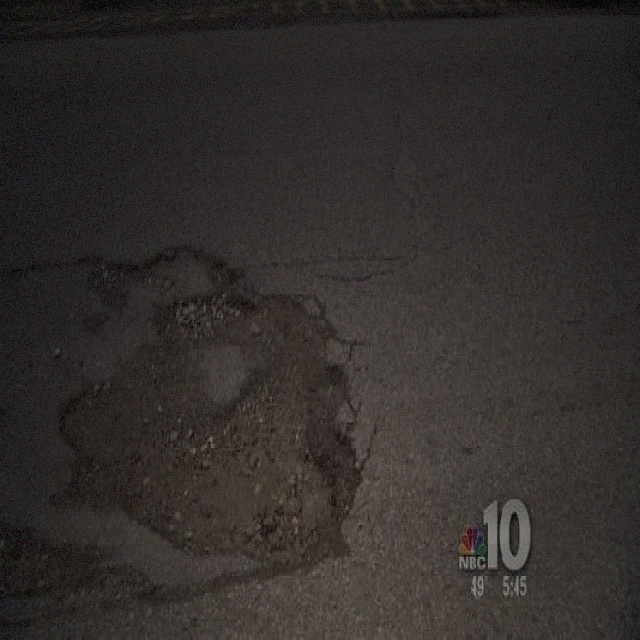pothole: (49, 245, 358, 566)
